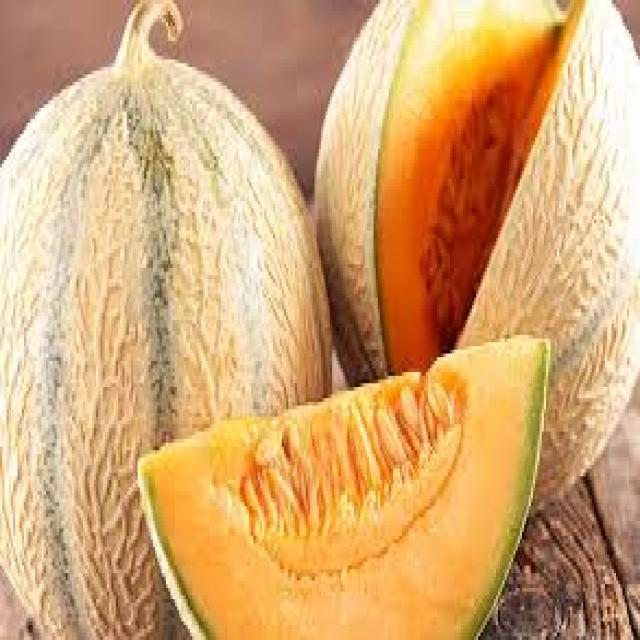cantaloupe: (0, 0, 332, 640), (314, 0, 640, 510), (138, 335, 550, 640)
